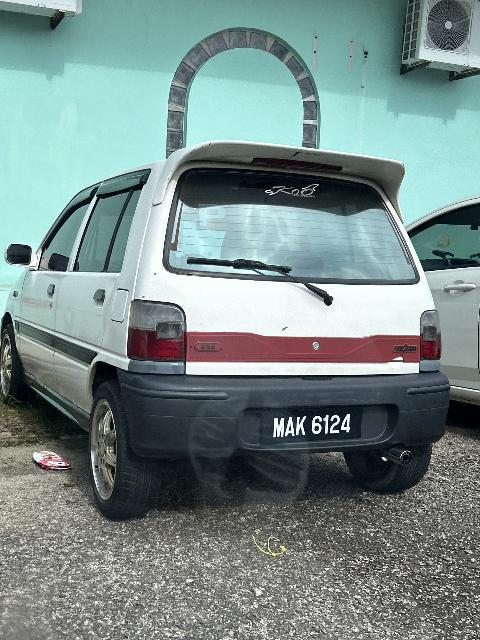License_Plate: (261, 409, 366, 447)
MAK6124: (261, 409, 366, 447)
car: (2, 143, 465, 520)
